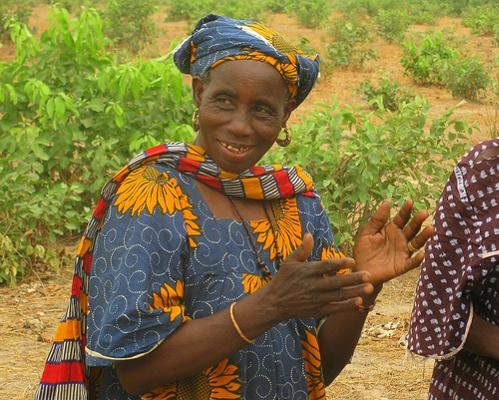person: (38, 12, 436, 396)
